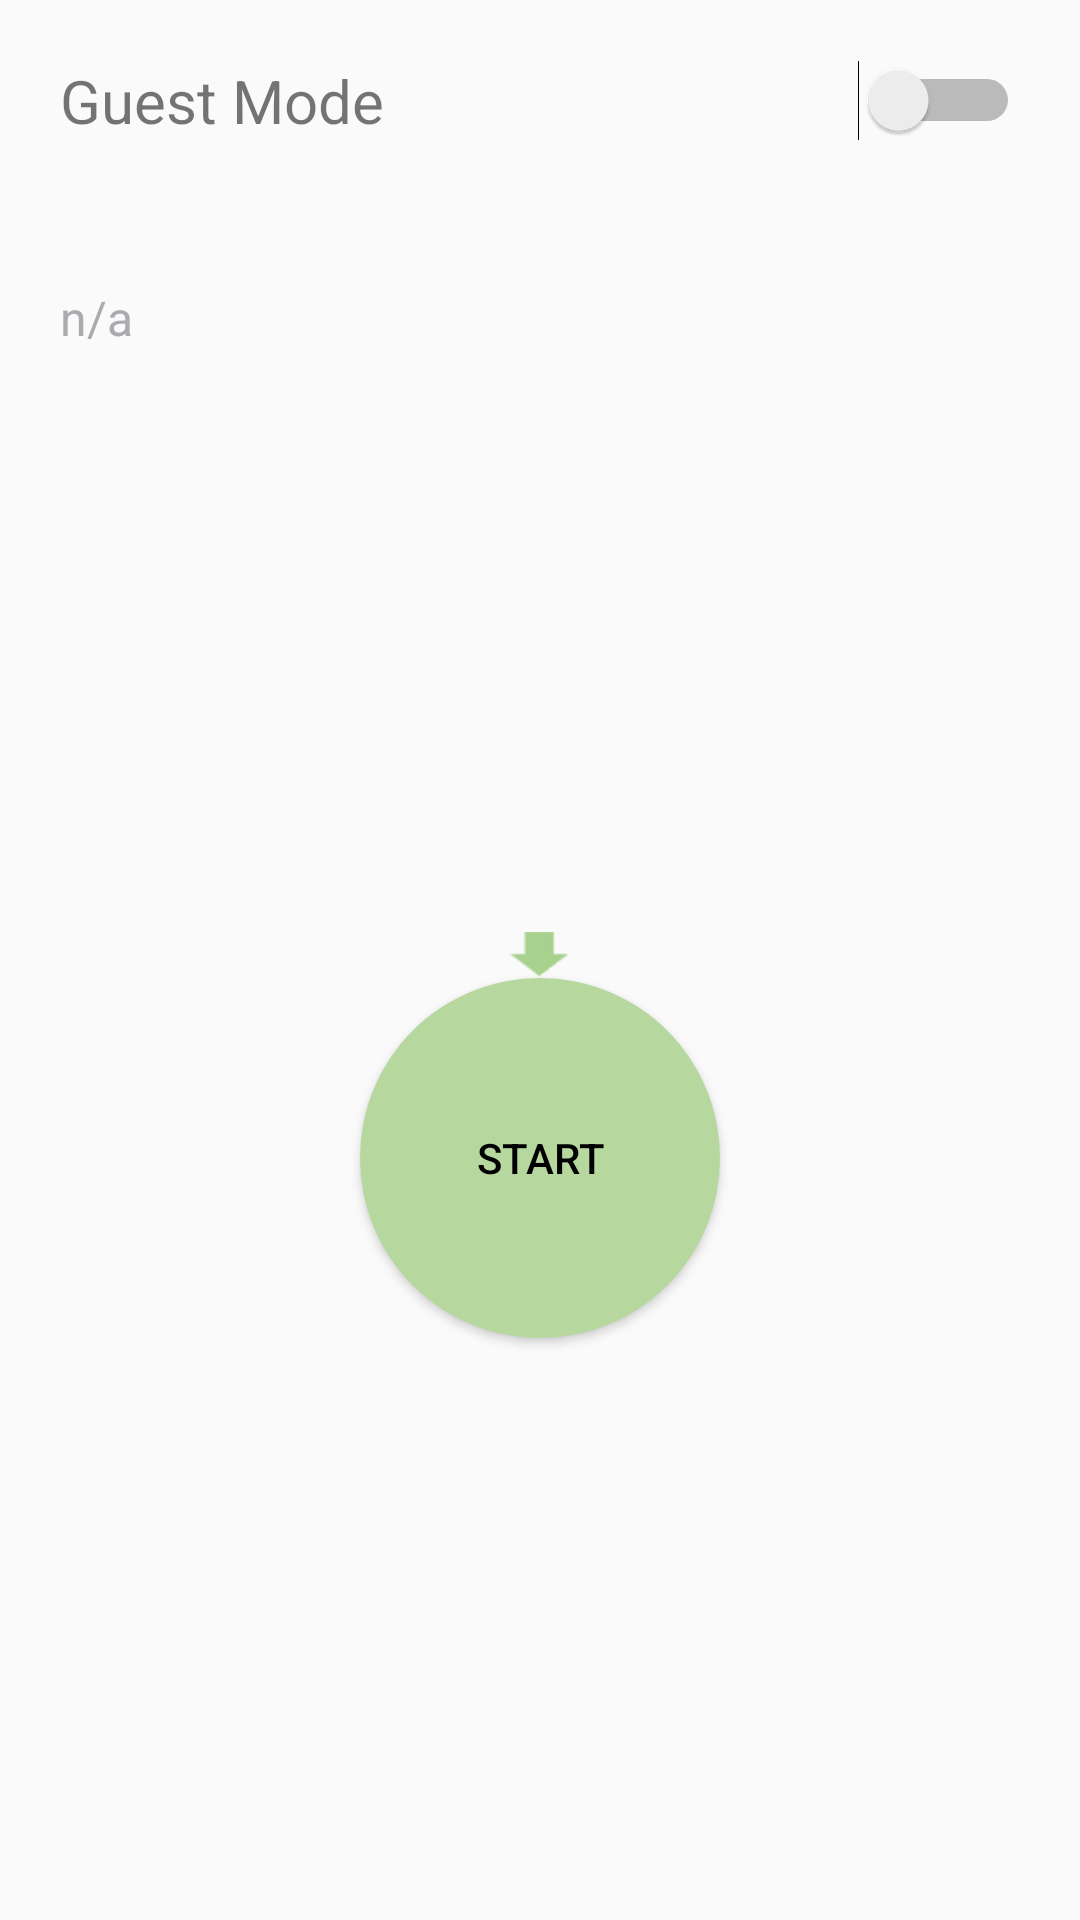

Named icons in this screenshot (1080 × 1920) and their centers, [x,y]:
measure arrow down: [539,954]
